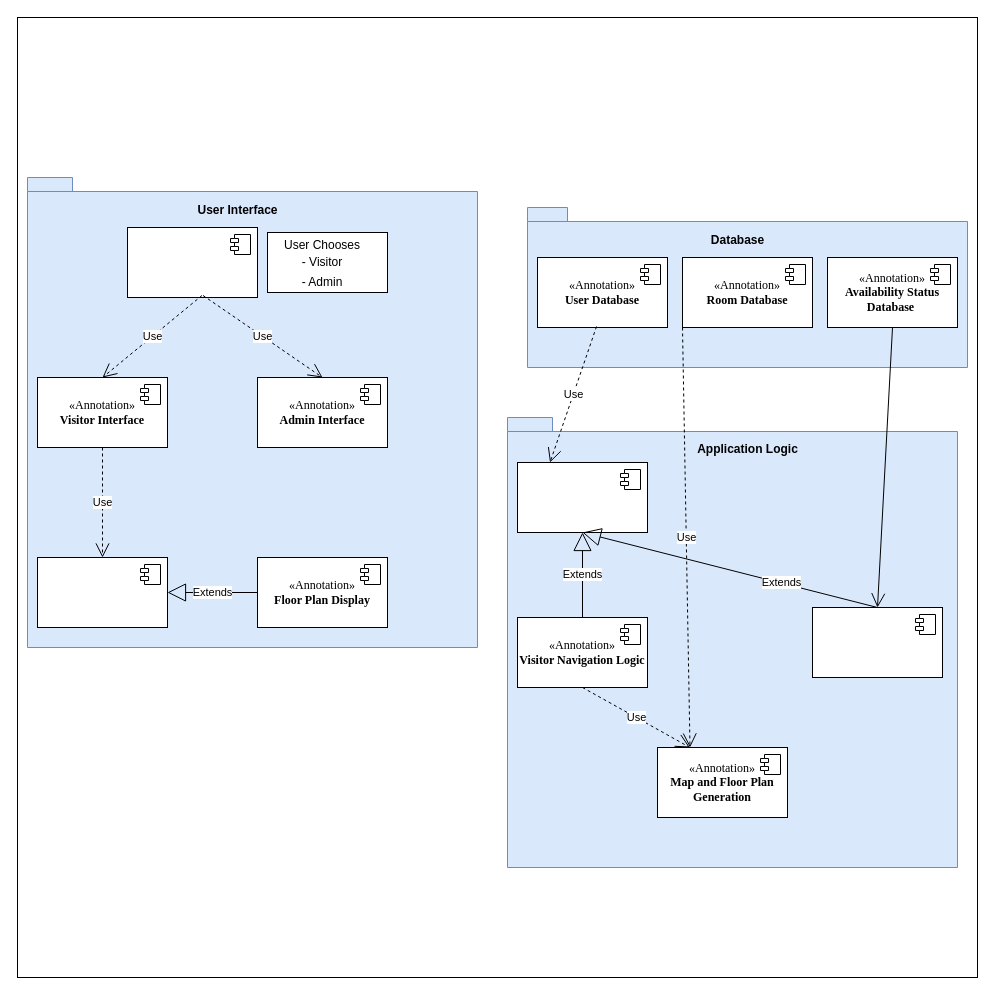
The diagram is 995 pixels wide and 995 high, and some of its shapes have lost their labels. Each missing label, with the box of its shape:
«Annotation» Admin Room Management Logic: (812, 606, 942, 678)
«Annotation» Interactive Map: (36, 556, 168, 628)
«Annotation» User Authentication: (516, 462, 648, 532)
«Annotation» Welcome Page: (126, 226, 258, 298)
